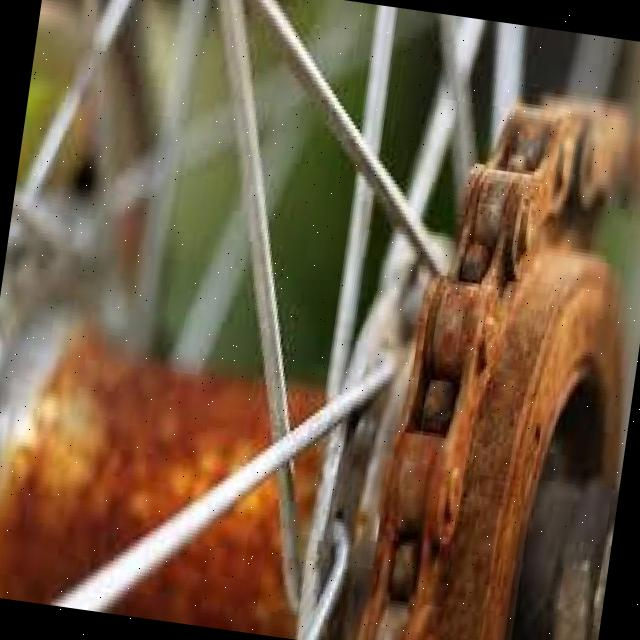Corrosion: (351, 75, 640, 640), (0, 309, 344, 639)
